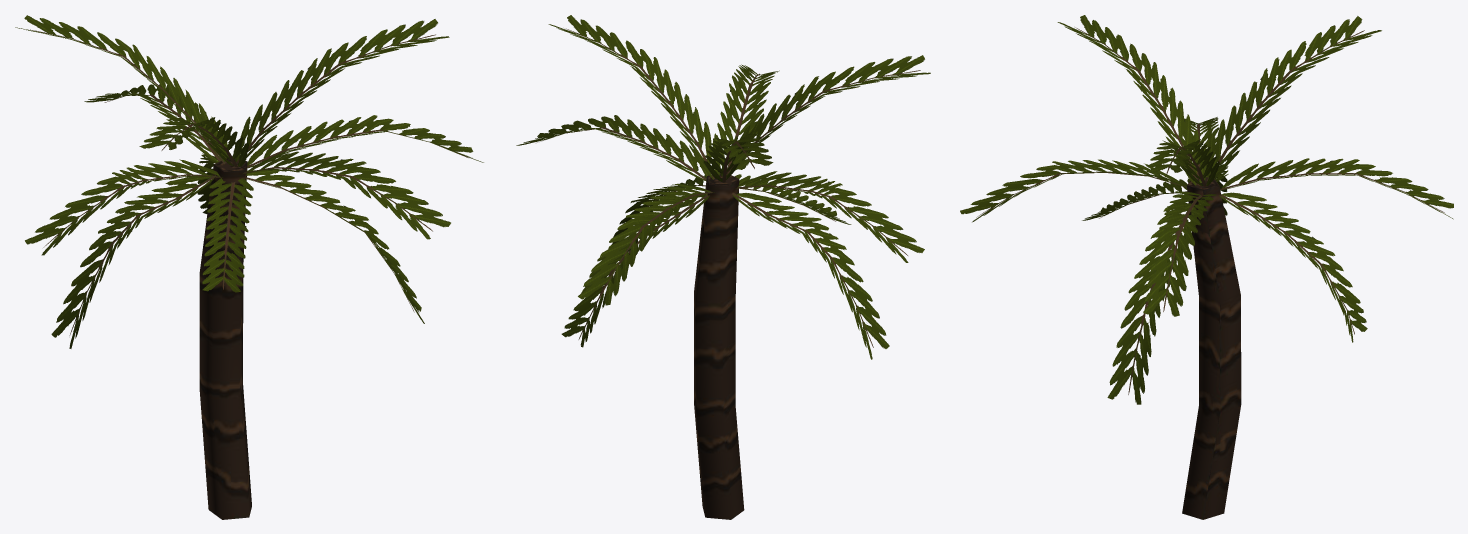
File: Palm Tree.FBX
3 renders of one model, left to right at view 1: azimuth 30°, elevation 25°; view 2: azimuth 150°, elevation 25°; view 3: azimuth 270°, elevation 25°, orthographic. The views are drawn at different scales.
Visible parts, largest first — view 1: Object003; view 2: Object003; view 3: Object003.
Part boxes in pixels (x1,y1,x2,y2): Object003: (15, 15, 483, 519); Object003: (516, 15, 930, 519); Object003: (960, 15, 1453, 519).
Bounding box in the file's own units: 790 × 809 × 837.
